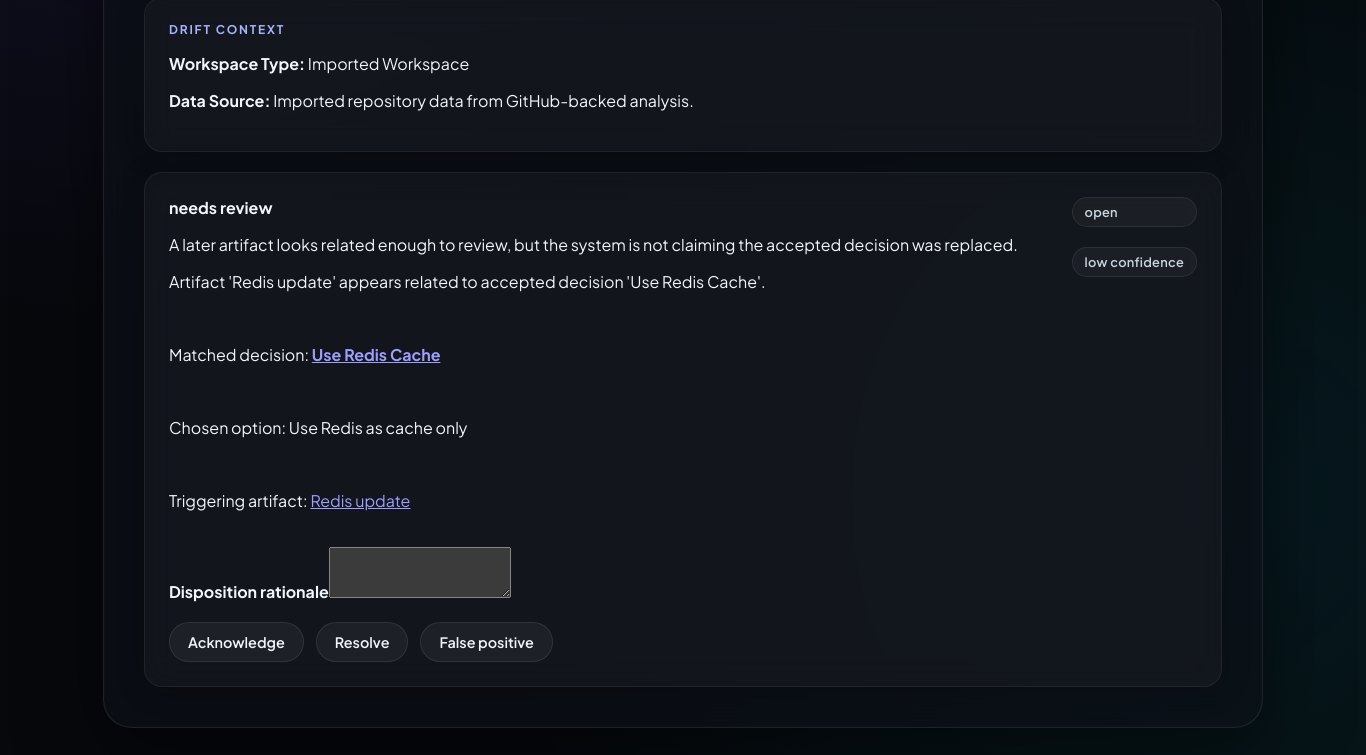
it: DriftPageContent › updates drift disposition and shows returned audit history
The image size is (1366, 755).
(page scrolled)
In the text box labelled "Disposition rationale": [420, 573] box 329,547 -> 511,598, type "No drift; this reinforces the existing decision."
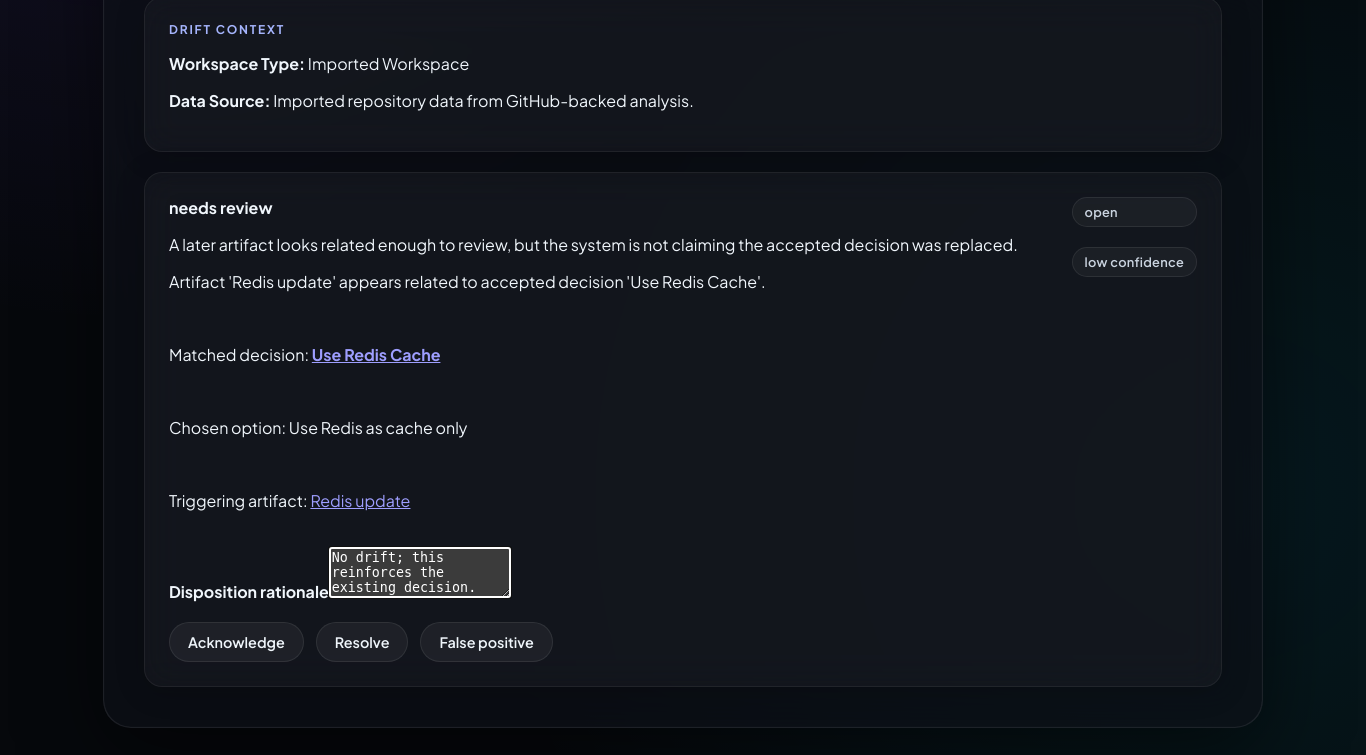
Click the button "Resolve": [362, 642] box 316,622 -> 408,662
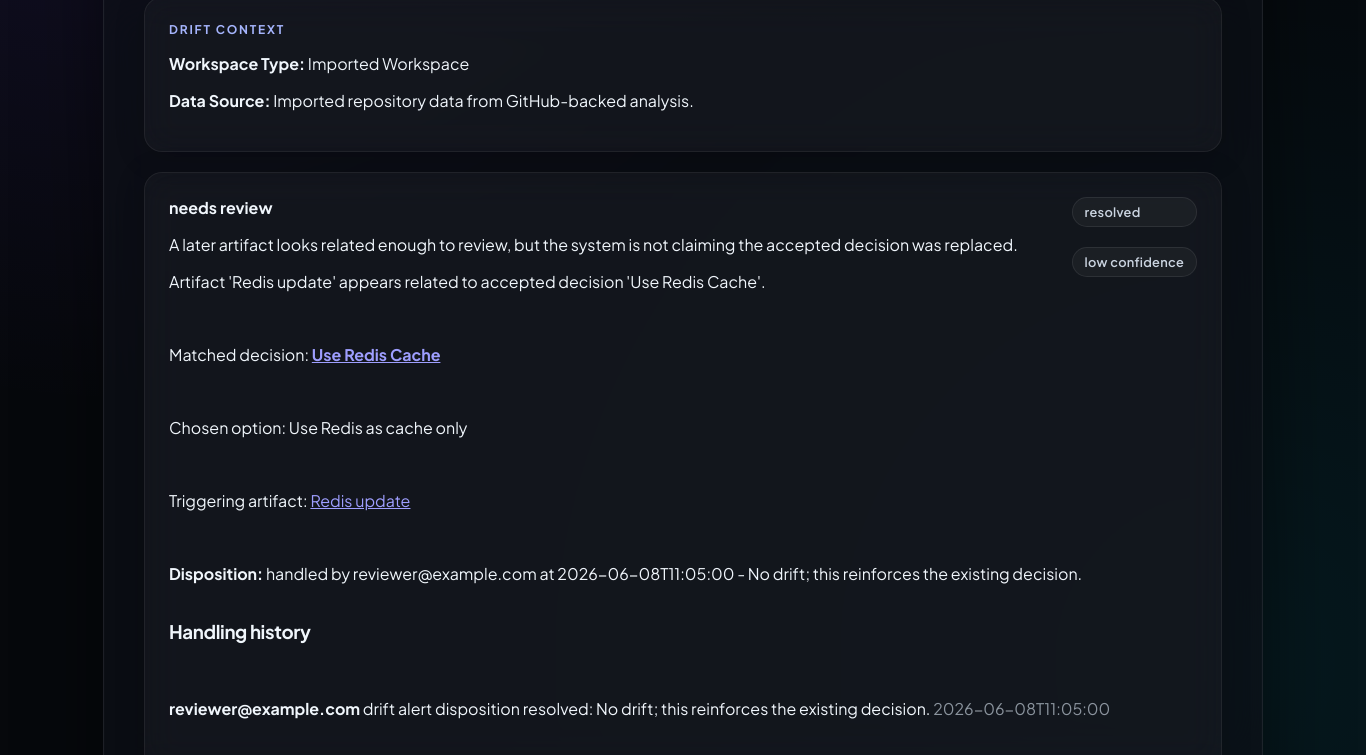
Expected: the text "handled by reviewer@example.com" is shown, 266,563 -> 537,584
Expected: the heading "Handling history" is shown, 169,620 -> 310,643
Expected: the text "drift alert disposition resolved" is shown, 363,698 -> 589,719
